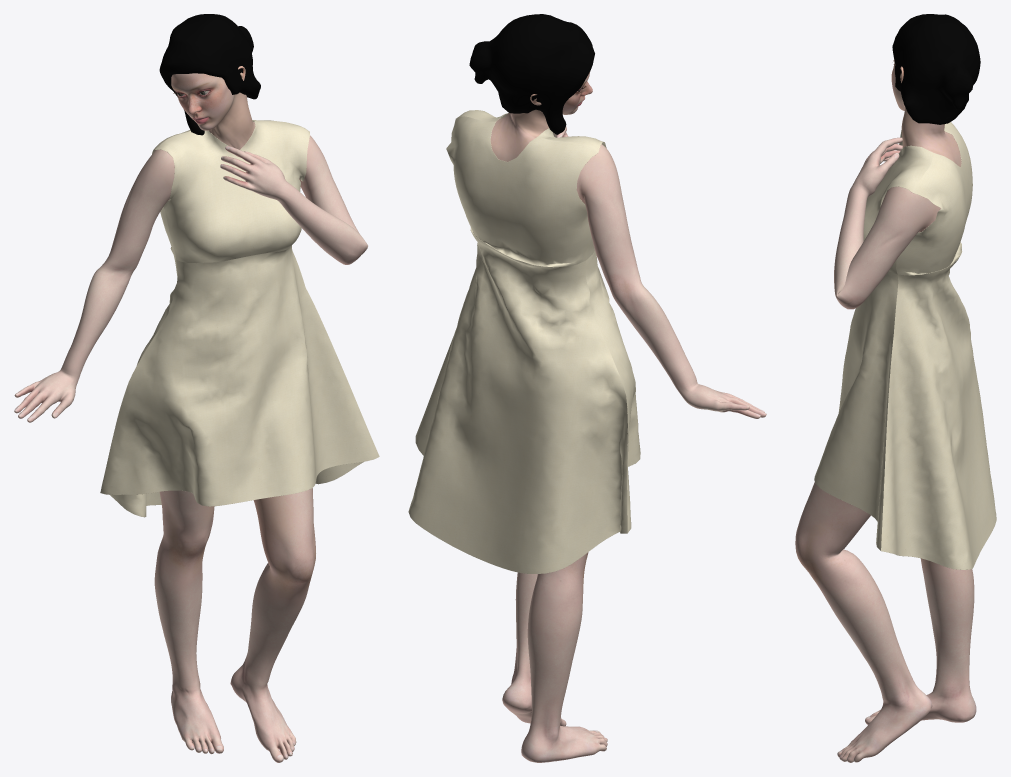
The model's file is Dramatic.obj.
3 views of the same model, side by side, from view 1: azimuth 30°, elevation 25°; view 2: azimuth 150°, elevation 25°; view 3: azimuth 270°, elevation 25° (orthographic). The views are drawn at different scales.
Bounding box in the file's own units: 897 × 1767 × 444.
